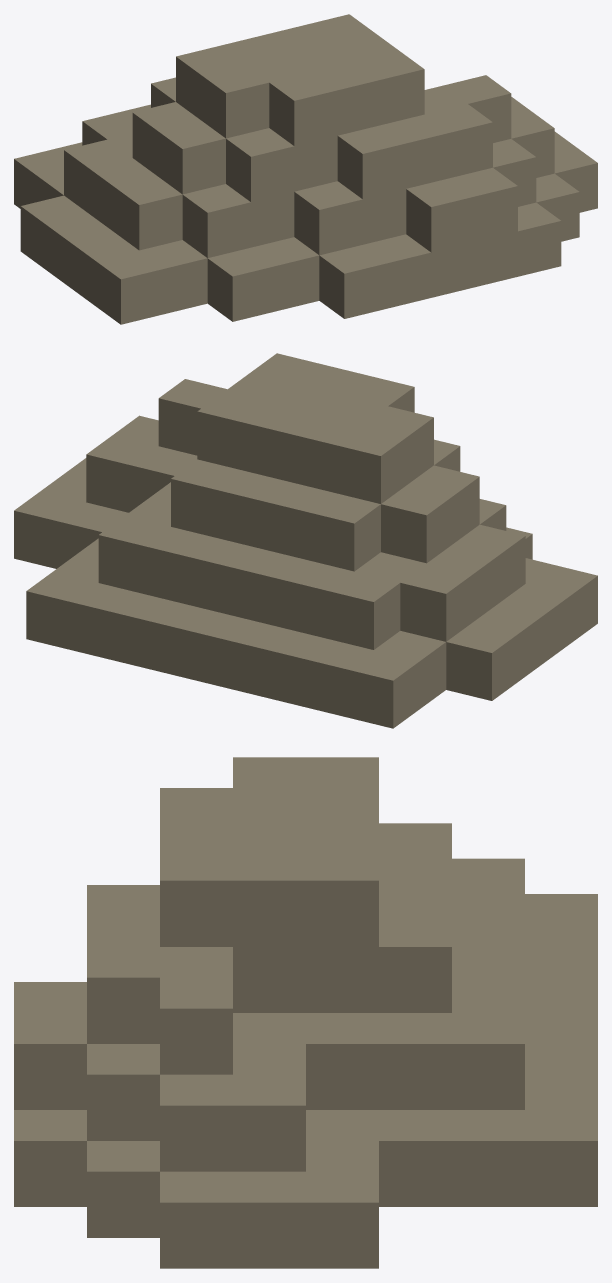
File: s1.vox.obj
3 renders of one model, top to bottom at view 1: azimuth 30°, elevation 25°; view 2: azimuth 150°, elevation 25°; view 3: azimuth 270°, elevation 25°, orthographic. The views are drawn at different scales.
Size of the model in its own units: 1.1 by 0.4 by 0.8.
1 material, 1 textured.
